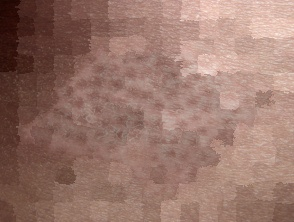vitiligo: (6, 0, 268, 222)
